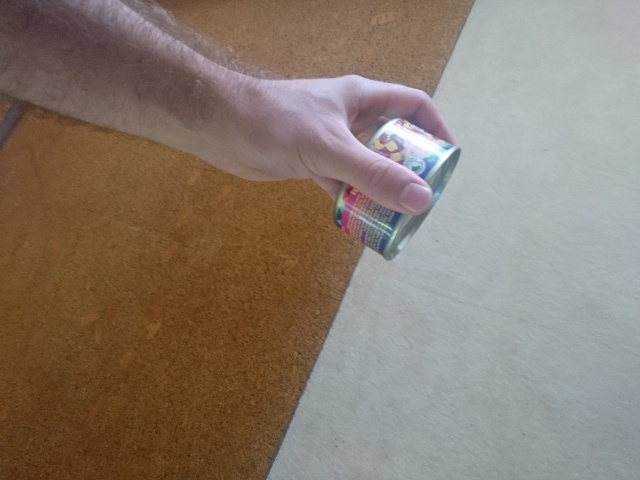Giana Tuna Salad Mexico 185g: (329, 114, 463, 263)
